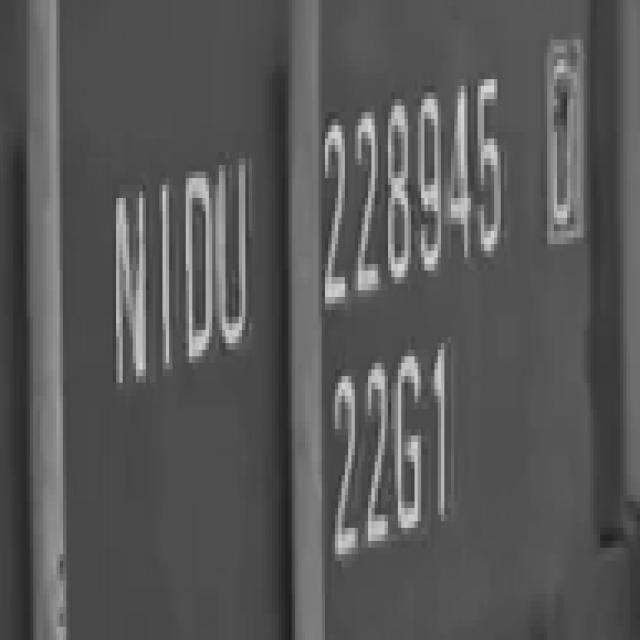dv: (537, 18, 590, 274)
owner: (99, 107, 264, 408)
serial: (310, 39, 508, 321)
size: (322, 316, 466, 583)
